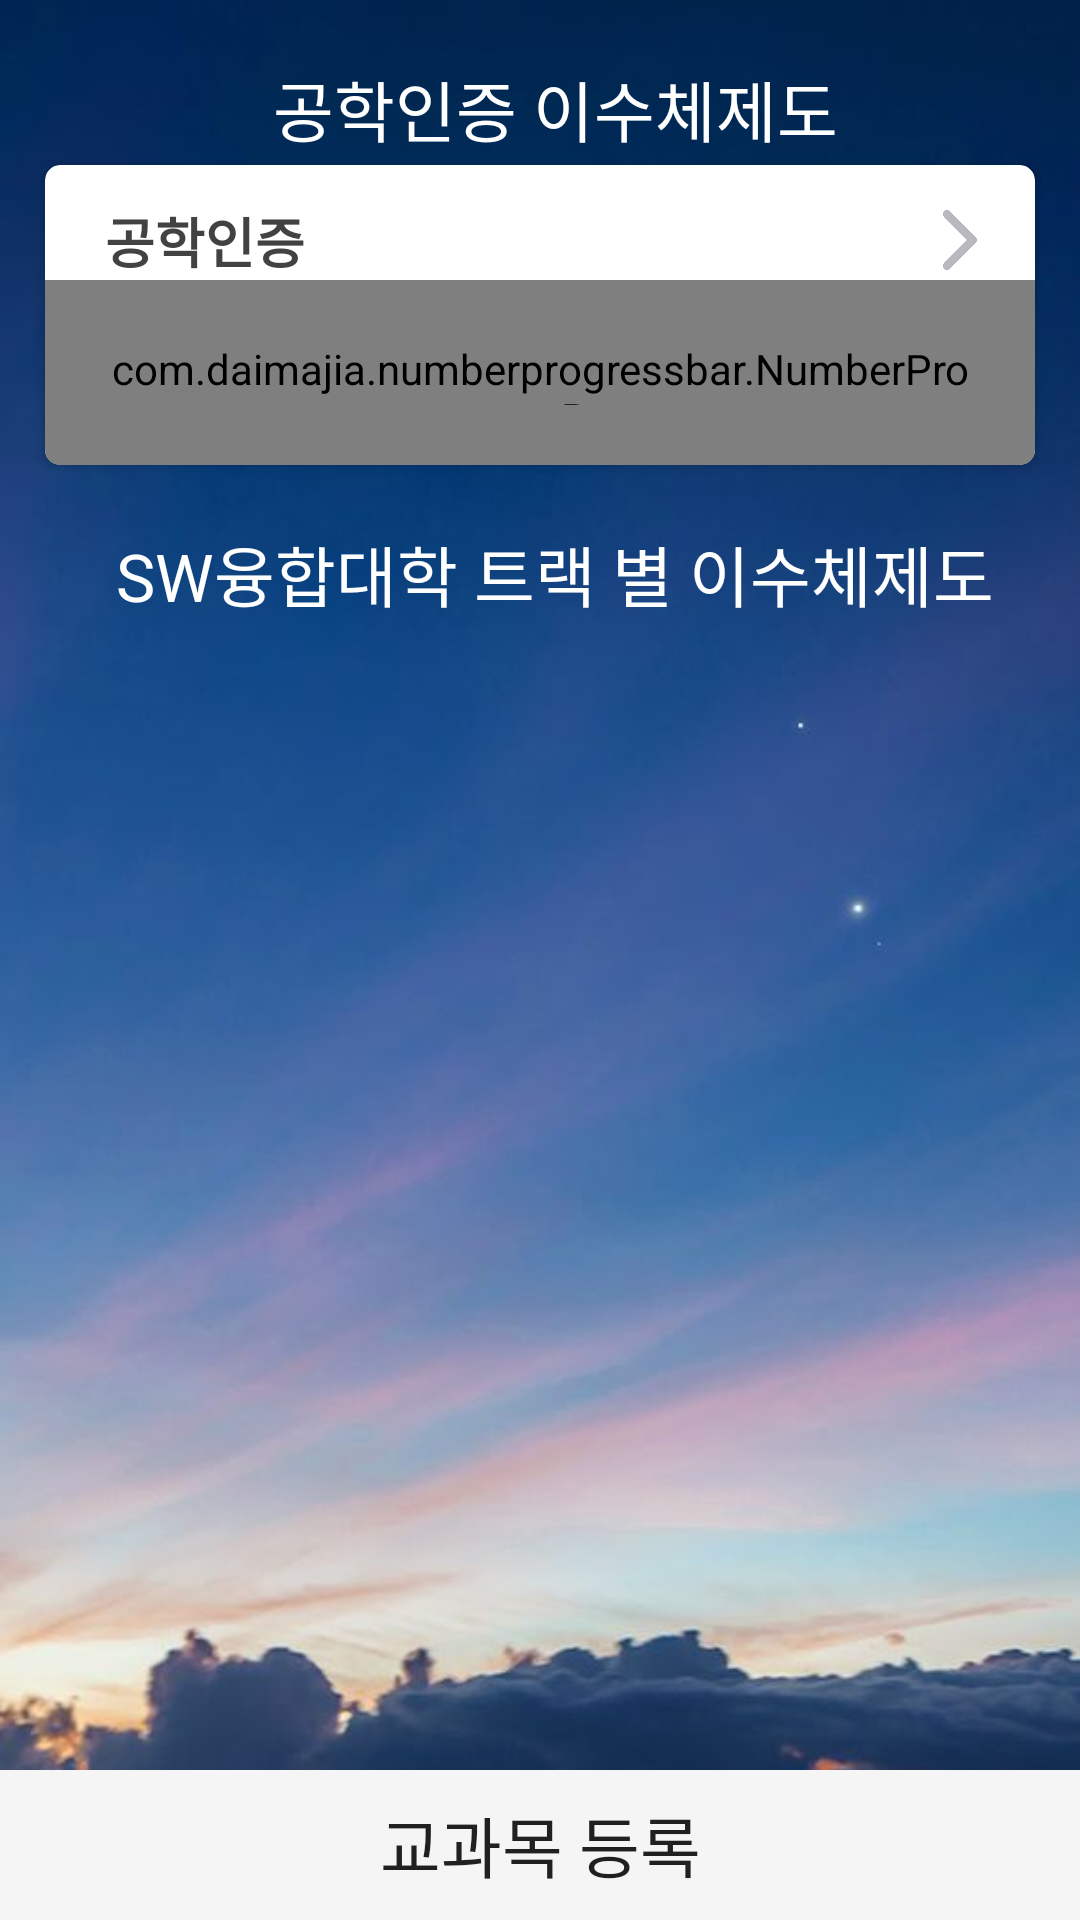

Named icons in this screenshot (1080 × 1920) and their centers, (x,y):
arrow: (960,240)
